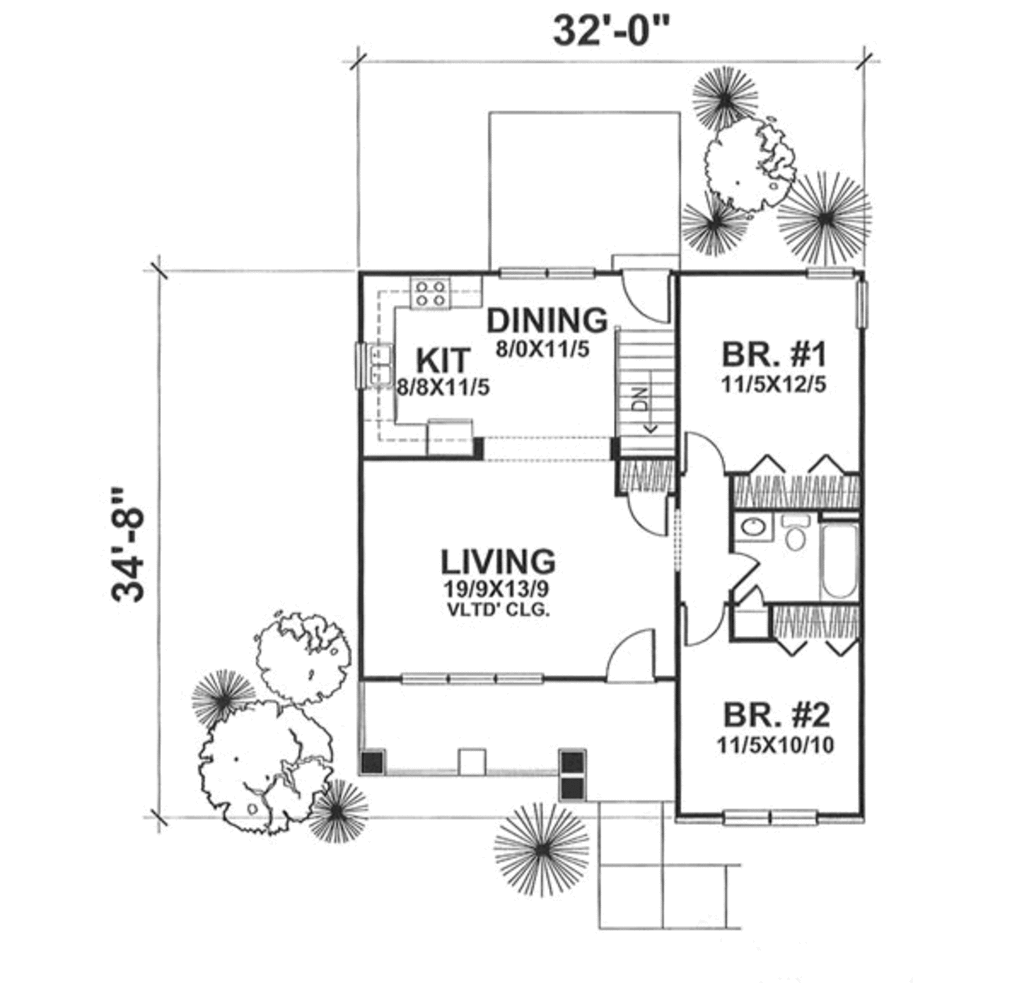door: (609, 251, 681, 330), (591, 625, 661, 693), (681, 598, 730, 655), (624, 493, 675, 539), (685, 430, 730, 478), (732, 549, 757, 594), (742, 591, 764, 609)
large_sink: (778, 510, 814, 563)
small_sink: (732, 510, 779, 548)
stairs: (609, 322, 679, 455)
tub: (823, 510, 863, 610)
twin_sink: (342, 339, 406, 398)
window: (397, 669, 548, 690), (721, 804, 823, 830), (499, 266, 597, 284), (859, 279, 872, 340), (806, 264, 856, 279)
